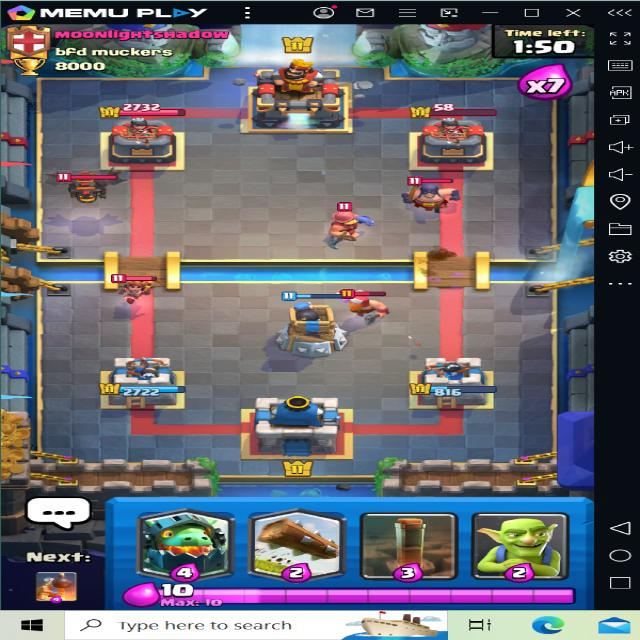executioner: (398, 174, 462, 212)
fisherman: (298, 198, 387, 245)
lava-hound: (40, 166, 132, 203)
little-prince: (107, 264, 162, 306)
lumberjack: (335, 290, 402, 320)
